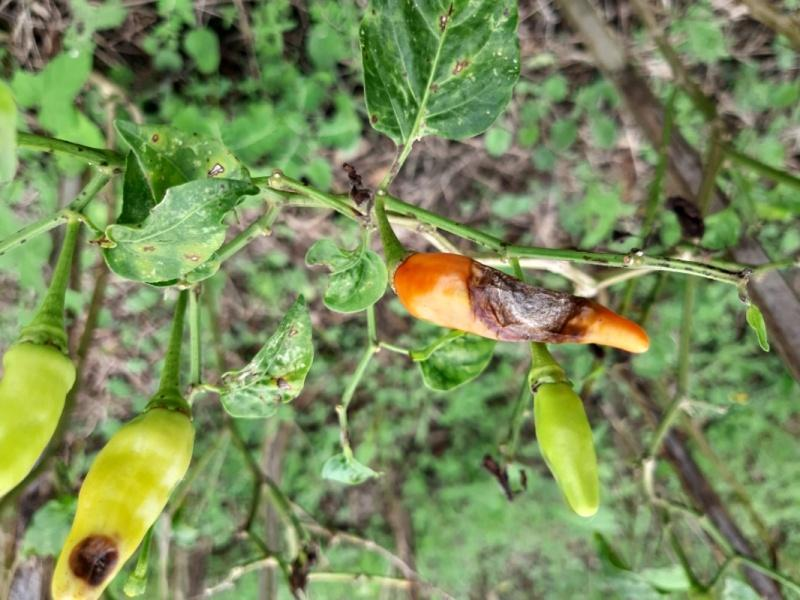antraknosa: (46, 410, 196, 600), (390, 252, 652, 358)
cabai_normal: (0, 346, 75, 500), (528, 384, 600, 516)
